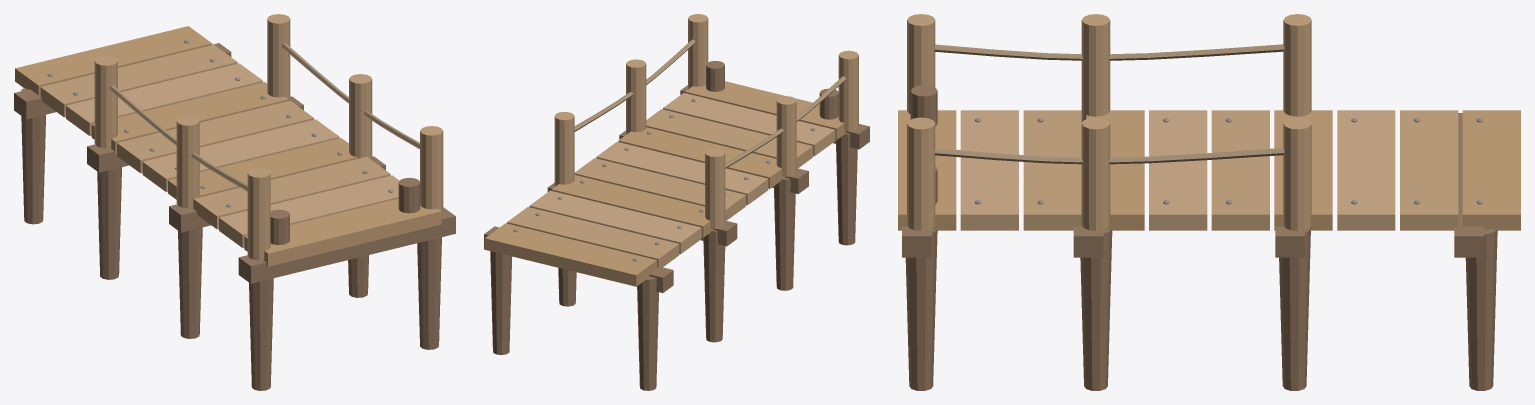
The model's file is dock_pine.glb.
The picture shows the model from 3 angles, left to right: view 1: azimuth 30°, elevation 25°; view 2: azimuth 150°, elevation 25°; view 3: azimuth 270°, elevation 25°; orthographic projection. The views are drawn at different scales.
Visible parts, largest first — view 1: Dock_Pine_Plank_10, Dock_Pine_Plank_01, Dock_Pine_Plank_08, Dock_Pine_Plank_02, Dock_Pine_Plank_05, Dock_Pine_Plank_06, Dock_Pine_Plank_03, Dock_Pine_Plank_04, Dock_Pine_Plank_09, Dock_Pine_Plank_07, Dock_Pine_Crossbeam_4, Dock_Pine_Support_-1_4 (+18 smaller); view 2: Dock_Pine_Plank_01, Dock_Pine_Plank_03, Dock_Pine_Plank_02, Dock_Pine_Plank_04, Dock_Pine_Plank_06, Dock_Pine_Plank_09, Dock_Pine_Plank_05, Dock_Pine_Plank_08, Dock_Pine_Plank_07, Dock_Pine_Plank_10, Dock_Pine_Support_-1_1, Dock_Pine_Support_-1_3 (+18 smaller); view 3: Dock_Pine_Plank_03, Dock_Pine_Plank_02, Dock_Pine_Plank_01, Dock_Pine_Plank_06, Dock_Pine_Plank_09, Dock_Pine_Plank_05, Dock_Pine_Plank_08, Dock_Pine_Plank_07, Dock_Pine_Support_1_1, Dock_Pine_Support_1_3, Dock_Pine_Support_1_4, Dock_Pine_Support_1_2 (+15 smaller).
Boxes of the visible parts, box(x1,y1,x2,y2) form: Dock_Pine_Plank_10: box(244, 198, 441, 266); Dock_Pine_Plank_01: box(15, 26, 212, 95); Dock_Pine_Plank_08: box(193, 156, 390, 229); Dock_Pine_Plank_02: box(40, 44, 237, 117); Dock_Pine_Plank_05: box(117, 100, 313, 173); Dock_Pine_Plank_06: box(142, 119, 339, 191); Dock_Pine_Plank_03: box(66, 63, 262, 135); Dock_Pine_Plank_04: box(91, 82, 288, 154); Dock_Pine_Plank_09: box(219, 175, 399, 247); Dock_Pine_Plank_07: box(168, 138, 357, 199); Dock_Pine_Crossbeam_4: box(238, 207, 455, 283); Dock_Pine_Support_-1_4: box(249, 278, 273, 390); Dock_Pine_Plank_01: box(485, 223, 656, 286); Dock_Pine_Plank_03: box(529, 190, 701, 253); Dock_Pine_Plank_02: box(507, 207, 679, 267); Dock_Pine_Plank_04: box(551, 175, 712, 237); Dock_Pine_Plank_06: box(596, 142, 768, 205); Dock_Pine_Plank_09: box(663, 93, 835, 156); Dock_Pine_Plank_05: box(574, 158, 745, 220); Dock_Pine_Plank_08: box(646, 109, 812, 168); Dock_Pine_Plank_07: box(618, 127, 784, 188); Dock_Pine_Plank_10: box(685, 81, 845, 139); Dock_Pine_Support_-1_1: box(637, 276, 658, 390); Dock_Pine_Support_-1_3: box(774, 177, 795, 290); Dock_Pine_Plank_03: box(1337, 110, 1395, 230); Dock_Pine_Plank_02: box(1400, 110, 1458, 230); Dock_Pine_Plank_01: box(1462, 110, 1520, 230); Dock_Pine_Plank_06: box(1149, 110, 1207, 230); Dock_Pine_Plank_09: box(960, 110, 1018, 230); Dock_Pine_Plank_05: box(1211, 110, 1269, 230); Dock_Pine_Plank_08: box(1023, 110, 1081, 230); Dock_Pine_Plank_07: box(1086, 110, 1144, 230); Dock_Pine_Support_1_1: box(1465, 229, 1497, 390); Dock_Pine_Support_1_3: box(1080, 229, 1112, 390); Dock_Pine_Support_1_4: box(905, 229, 937, 390); Dock_Pine_Support_1_2: box(1279, 229, 1310, 390).
Size of the model in its own units: 1.95 by 1.95 by 4.17.
